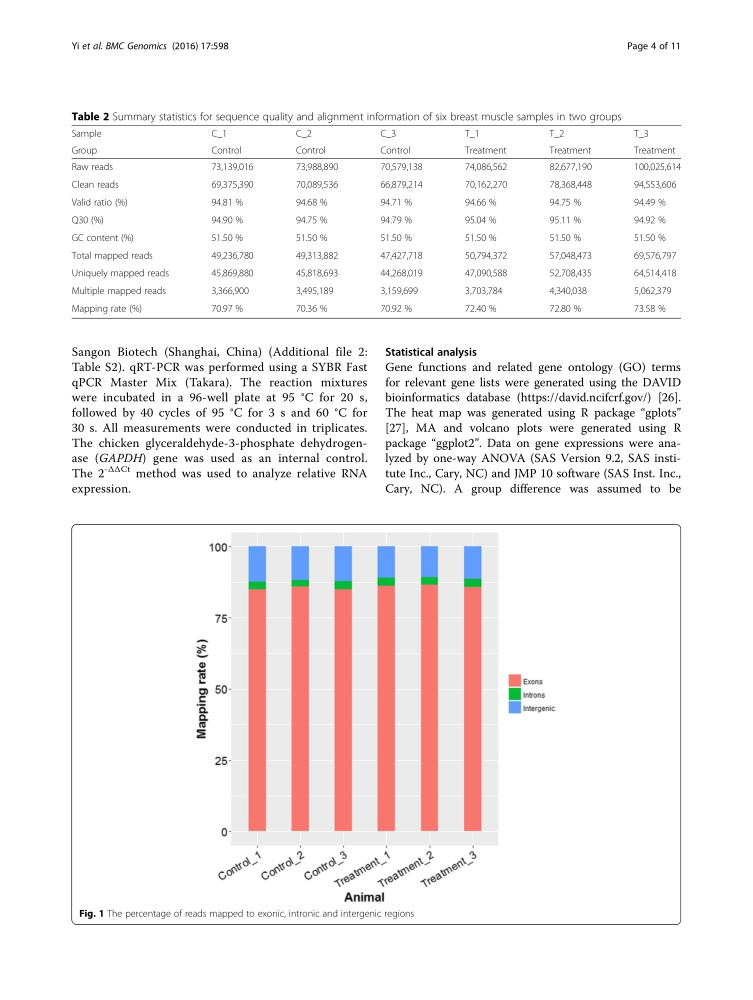table: (71, 128, 680, 314)
